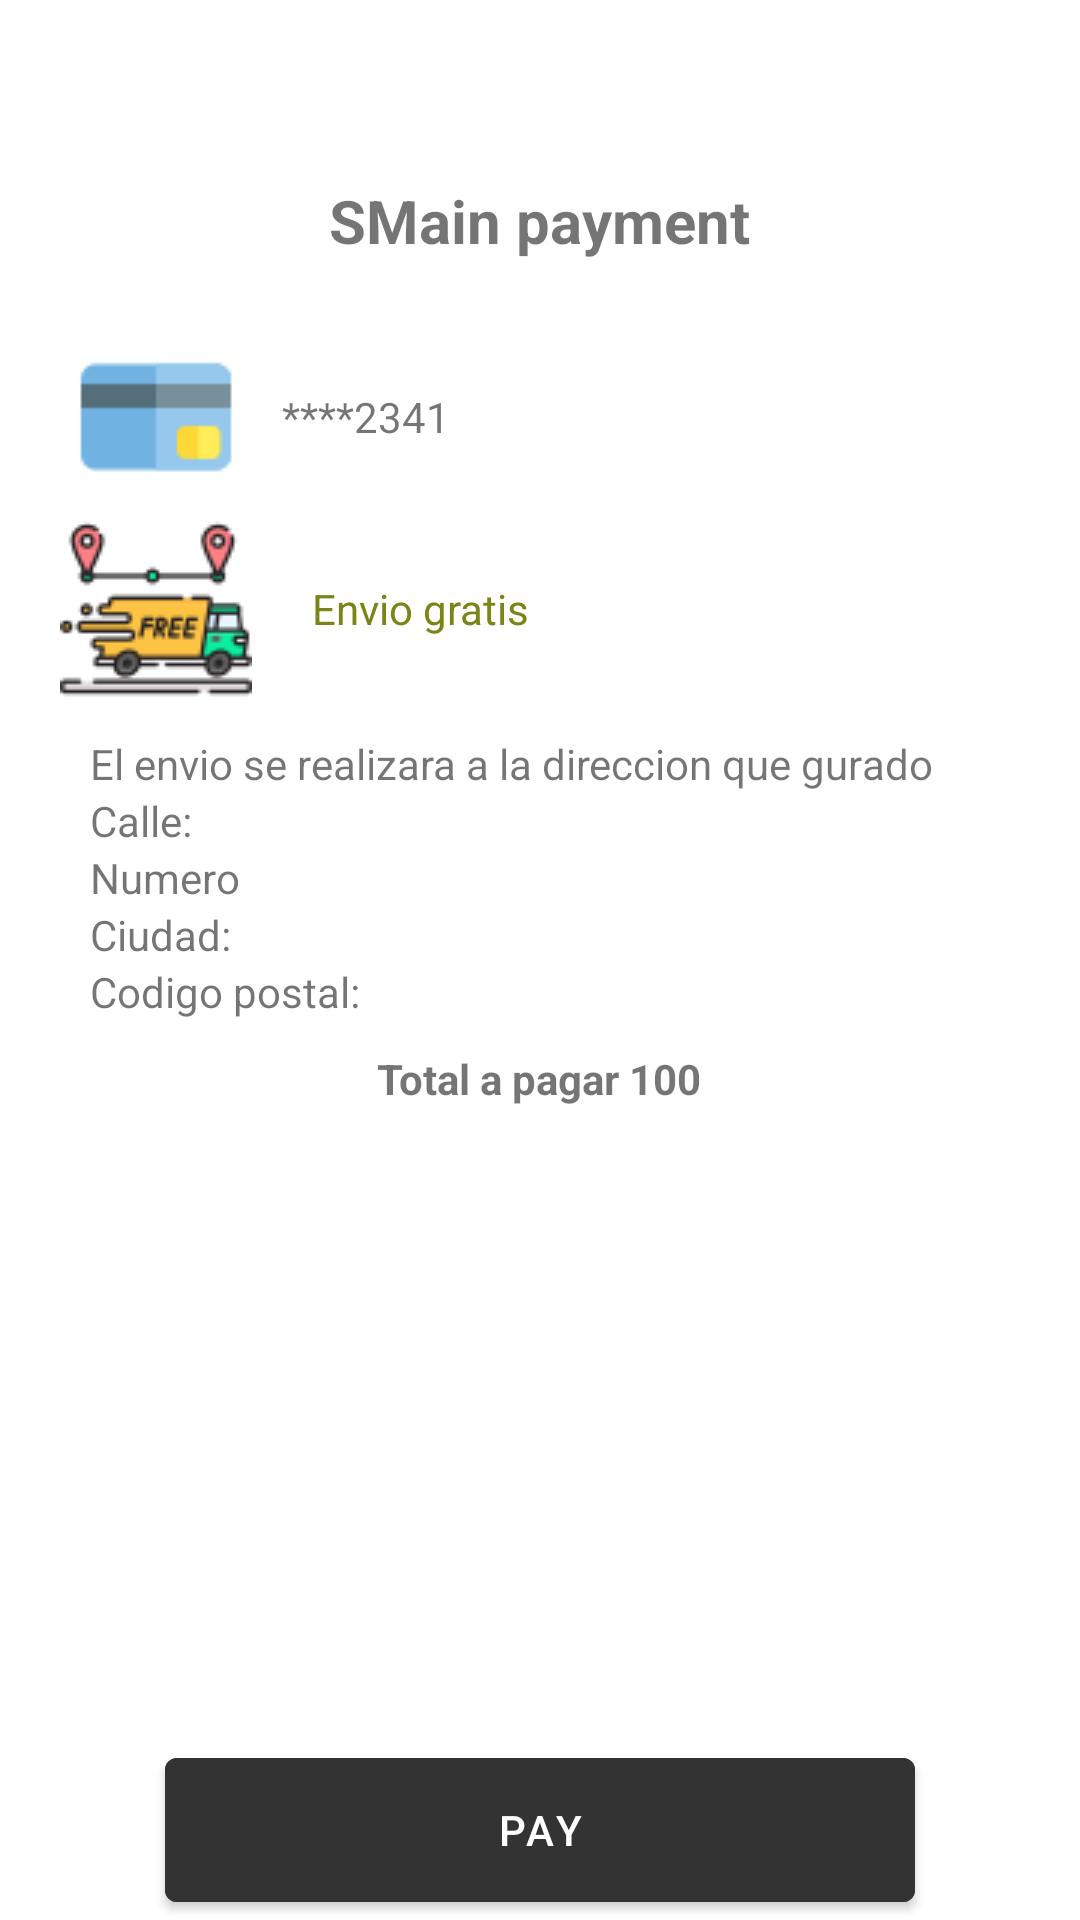

Where to tap for icons on this 1080 × 1920 app screen, as point (x, y):
deliver: point (156, 609)
